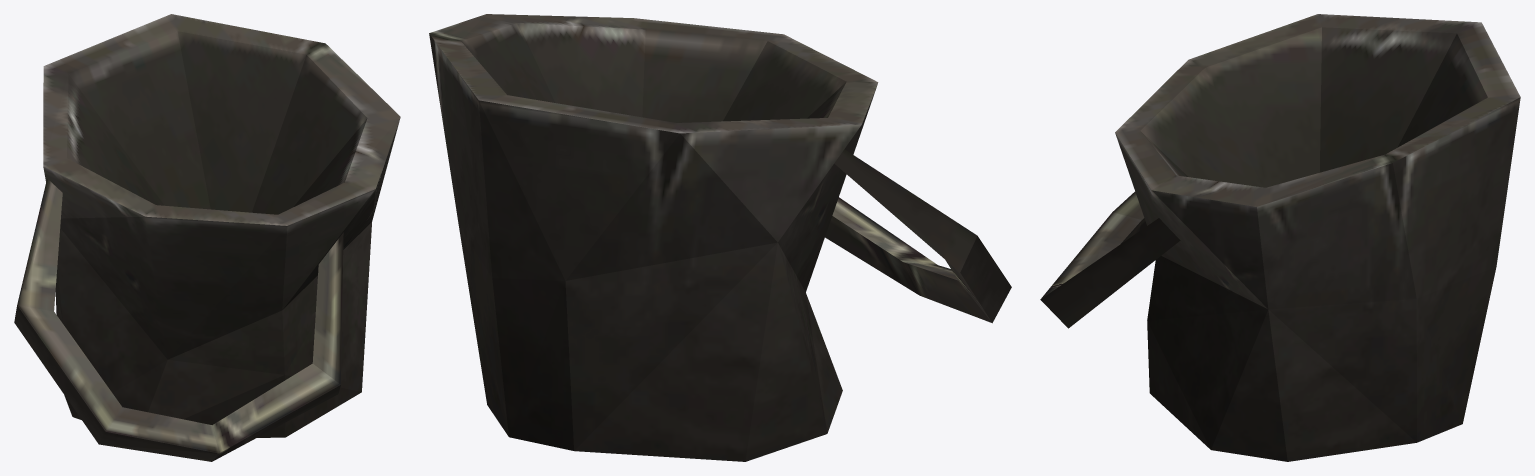
Rendered from bandit_bucket_01.fbx.
The picture shows the model from 3 angles, left to right: view 1: azimuth 30°, elevation 25°; view 2: azimuth 150°, elevation 25°; view 3: azimuth 270°, elevation 25°; orthographic projection. The views are drawn at different scales.
Visible parts, largest first — view 1: obj0.586; view 2: obj0.586; view 3: obj0.586.
Boxes of the visible parts, x1=… form: obj0.586: x1=14, y1=14, x2=400, y2=461; obj0.586: x1=429, y1=14, x2=1011, y2=461; obj0.586: x1=1040, y1=14, x2=1520, y2=461.
Bounding box in the file's own units: 0.9683 × 0.6911 × 0.9226.
